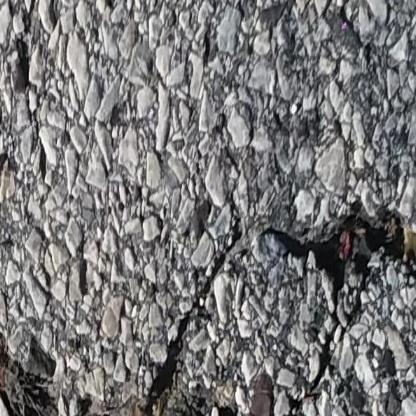Cracks: (0, 135, 416, 416), (11, 0, 44, 133)
